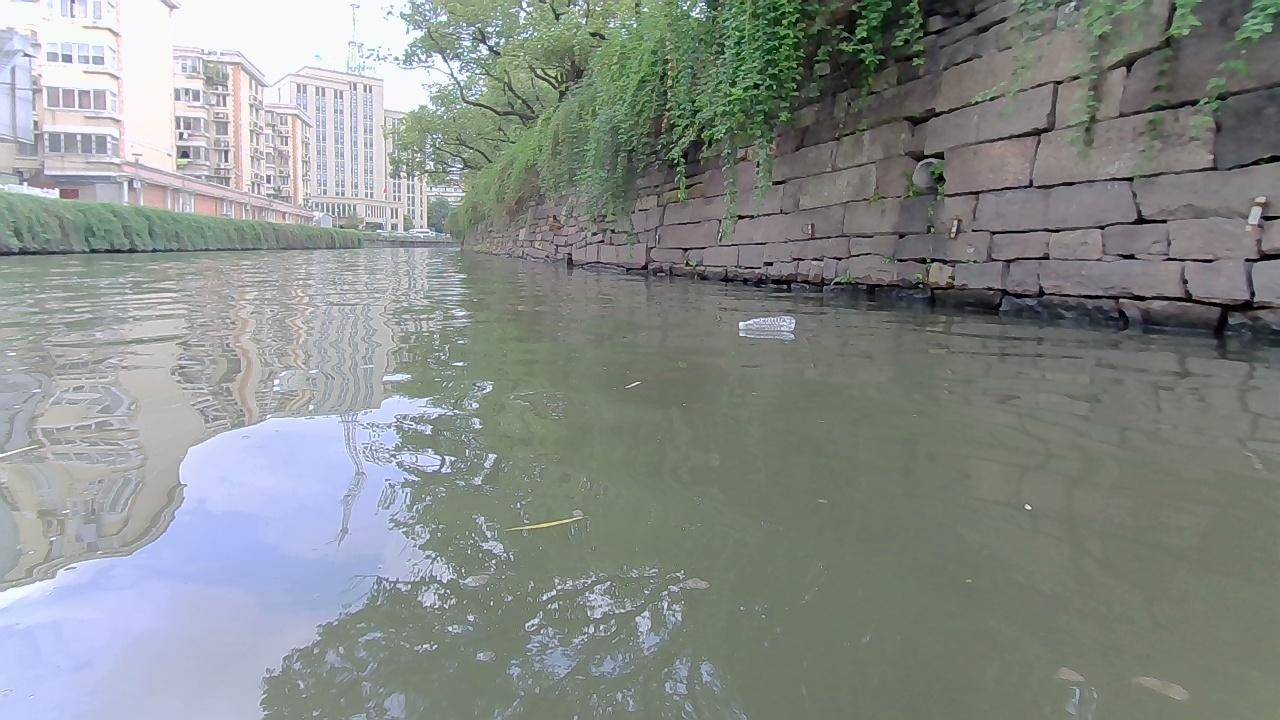bottle: (737, 315, 796, 329)
